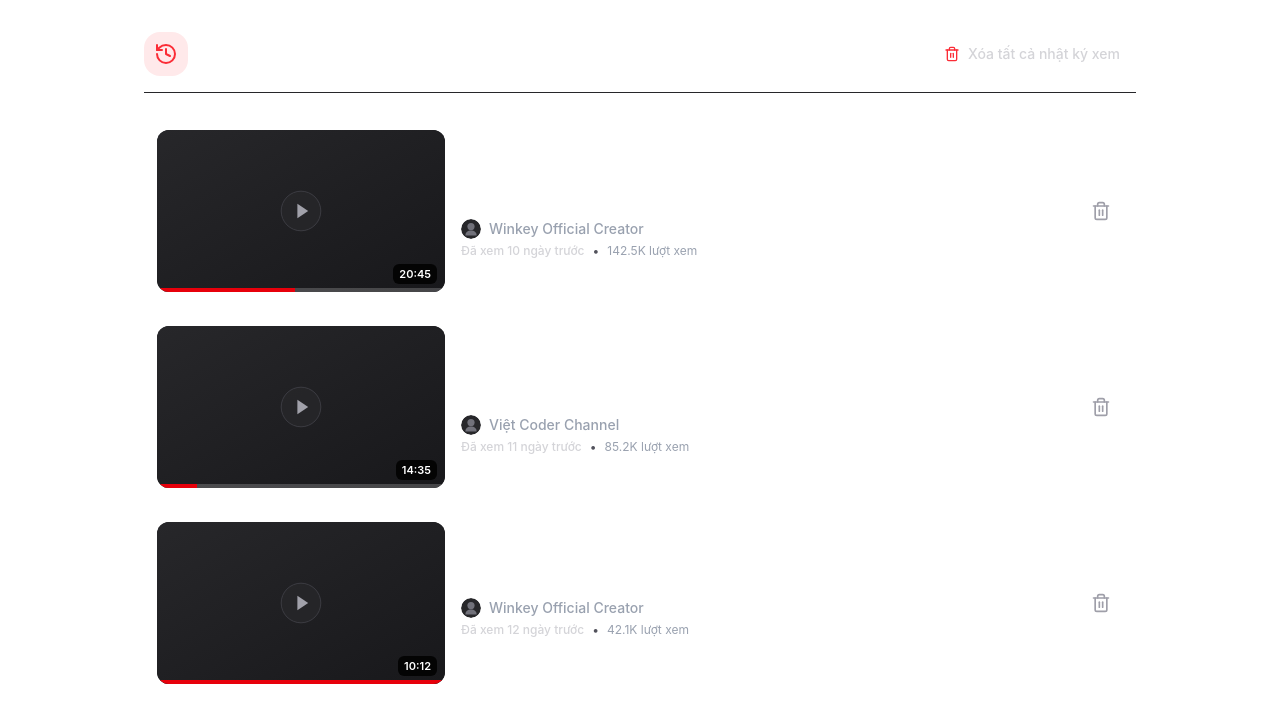
Test: HIST1: Watch History (/lich-su) Unit Tests (ADR-044) › 3. Authenticated State with History Items › deletes a single video item optimistically on click
The image size is (1280, 720).
Click the 1st button named "Xóa khỏi nhật ký xem". click: {"x": 1101, "y": 211}
box: [1079,189,1123,233]
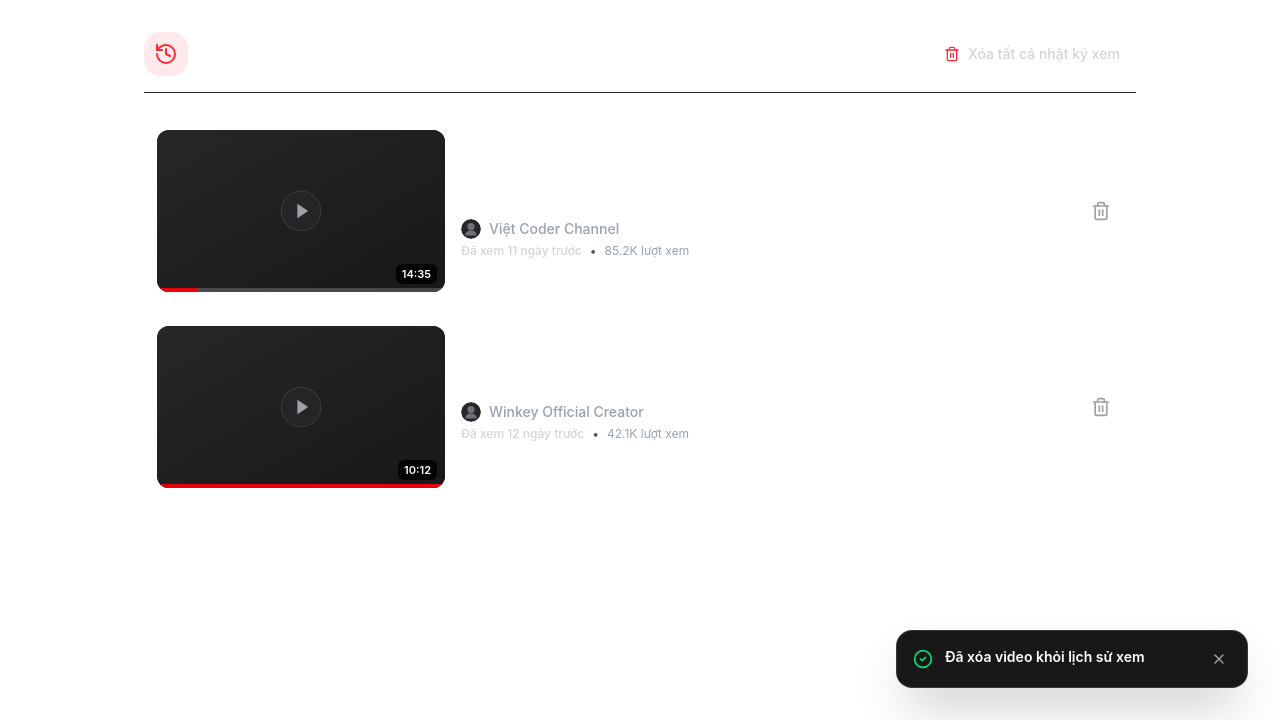
Result: the text "Đã xóa video khỏi lịch sử xem" is shown at [945,648,1145,665]
